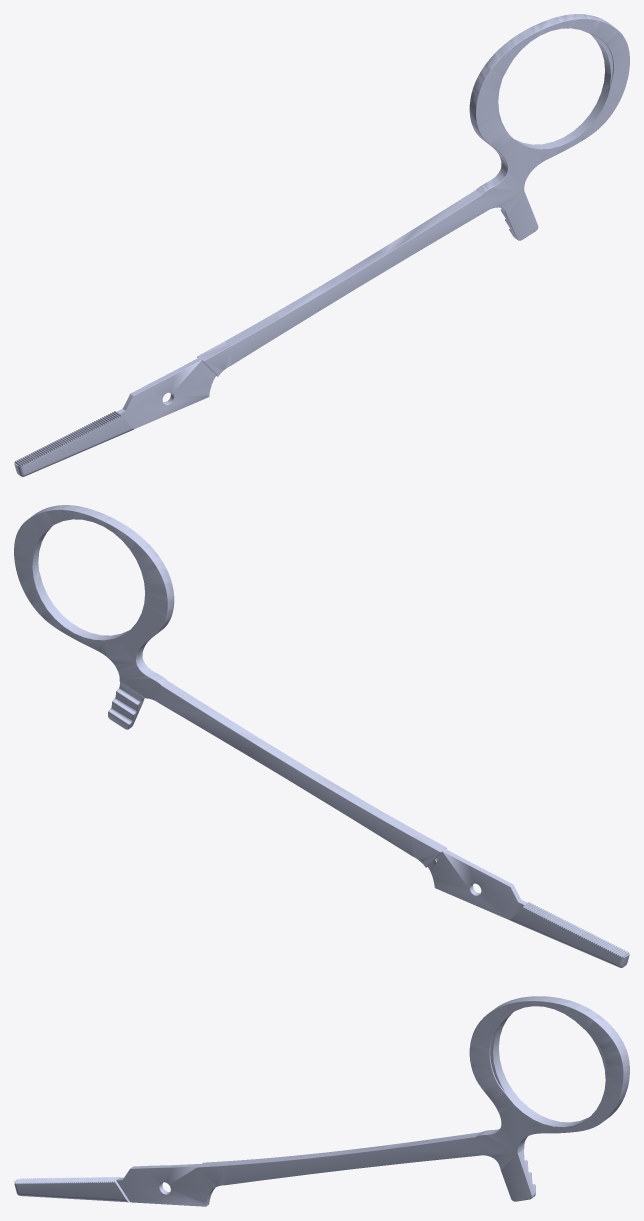
Rendered from SURGERY_CLAMP_01_1.dae.
3 views of the same model, one above another, from view 1: azimuth 30°, elevation 25°; view 2: azimuth 150°, elevation 25°; view 3: azimuth 330°, elevation 25° (orthographic).
Visible parts, largest first — view 1: node0; view 2: node0; view 3: node0.
Boxes of the visible parts, box(x1,y1,x2,y2) form: node0: box(14, 14, 629, 476); node0: box(14, 505, 629, 967); node0: box(14, 996, 629, 1206).
Bounding box in the file's own units: 0.1193 × 0.0607 × 0.00219.
